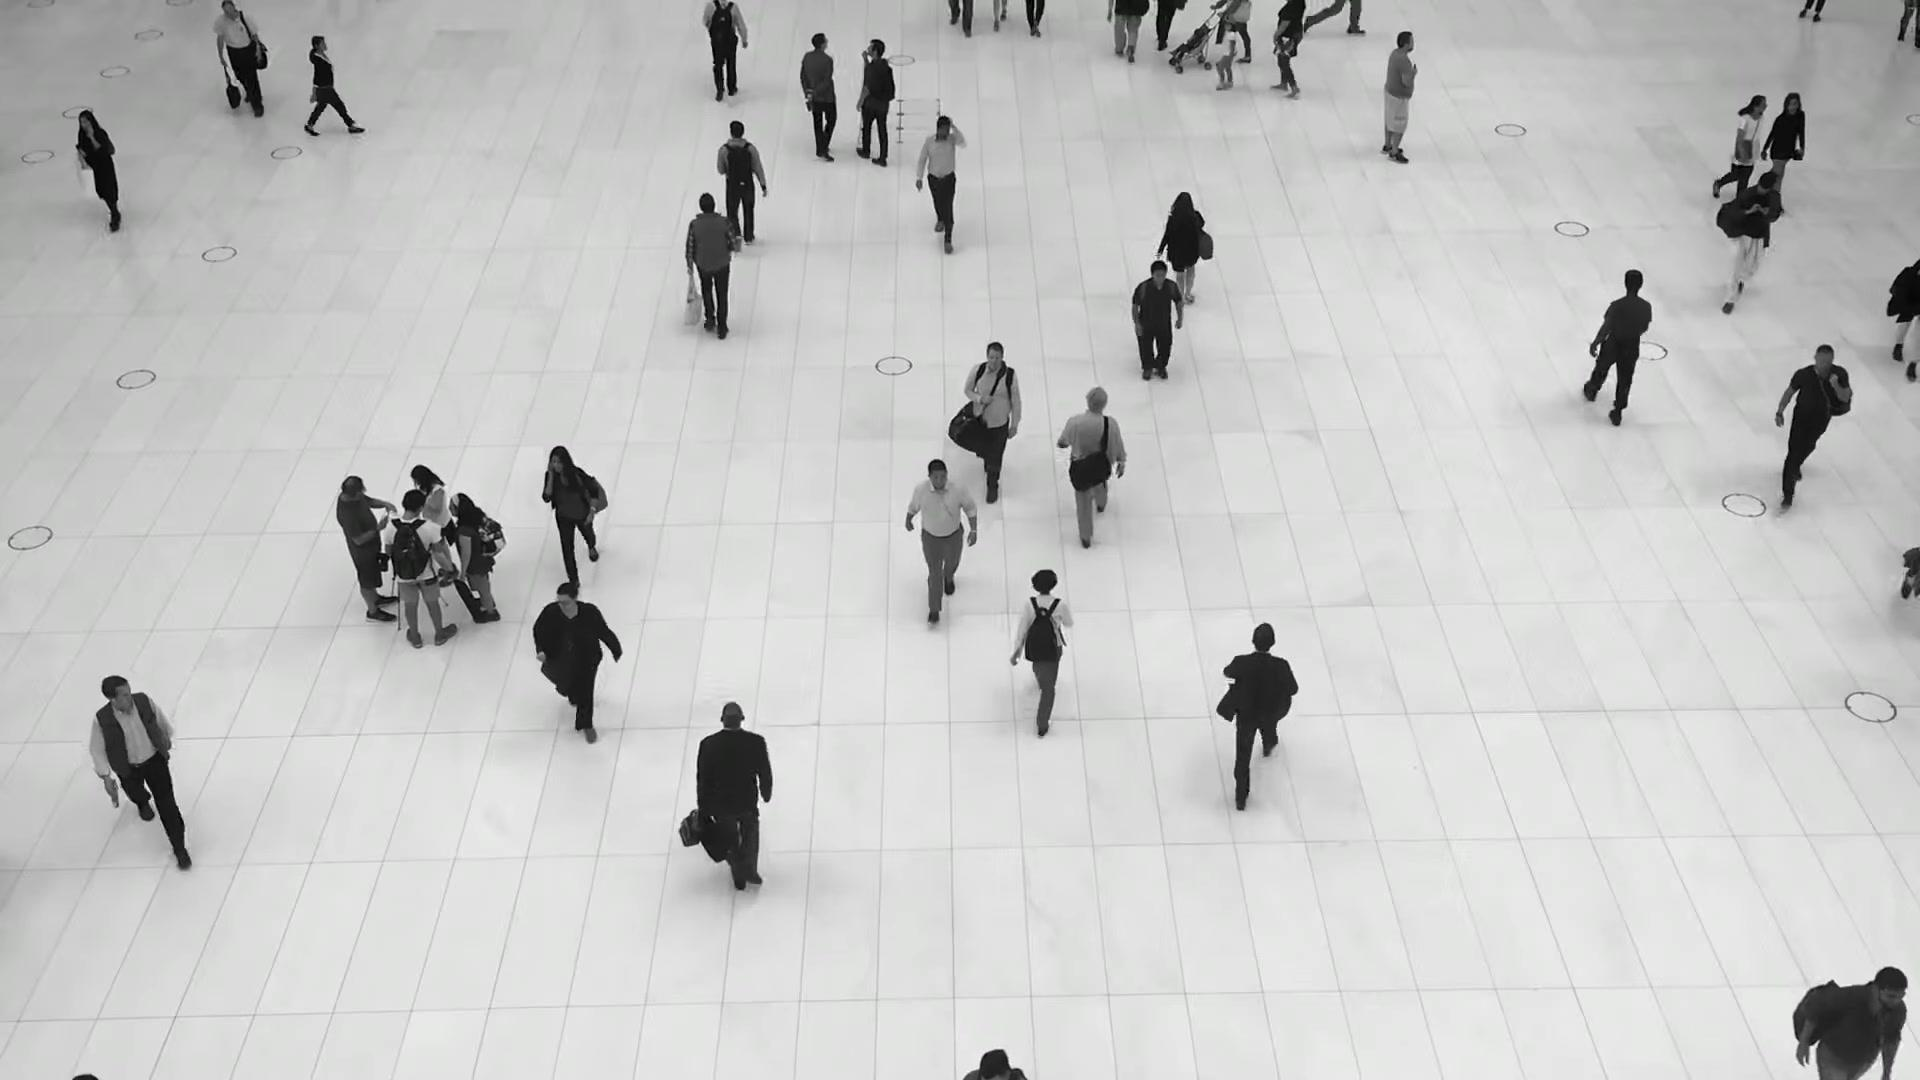person: (88, 675, 194, 869), (694, 702, 774, 895), (1217, 619, 1299, 805), (532, 583, 620, 749), (1775, 342, 1853, 507), (1797, 969, 1911, 1080), (383, 489, 458, 650), (906, 458, 977, 623), (1057, 385, 1126, 544), (1583, 268, 1651, 423), (1011, 566, 1073, 735), (336, 474, 400, 628), (1716, 172, 1782, 316), (964, 343, 1021, 507), (542, 445, 608, 584), (683, 191, 738, 337), (448, 491, 502, 623), (211, 0, 268, 118), (305, 34, 369, 136), (915, 113, 964, 246), (715, 120, 767, 243), (1131, 260, 1184, 383), (1158, 191, 1214, 303), (76, 109, 126, 230), (410, 464, 459, 587), (1712, 94, 1767, 199), (1381, 28, 1419, 164), (856, 37, 895, 166), (799, 32, 838, 162), (701, 0, 748, 103), (1761, 91, 1805, 191), (1268, 0, 1305, 97), (1214, 19, 1237, 91)
